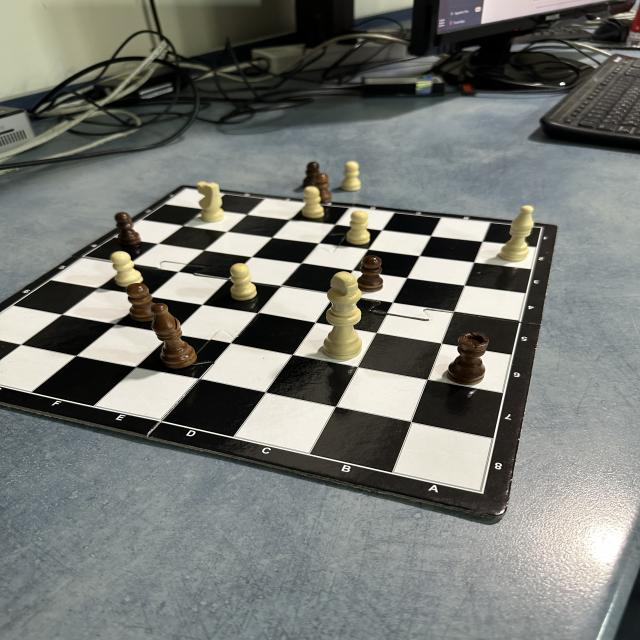Black-Bishop: (149, 302, 198, 370)
Black-Pawn: (126, 283, 154, 322), (359, 255, 385, 292), (115, 212, 142, 246), (316, 173, 334, 203), (302, 162, 319, 186)
Black-Rook: (446, 330, 491, 386)
White-Bishop: (498, 204, 535, 262)
White-King: (325, 270, 363, 361)
White-Knight: (197, 181, 226, 223)
White-Pawn: (110, 250, 144, 288), (230, 262, 258, 302), (345, 211, 372, 245), (303, 186, 327, 220), (341, 161, 362, 192)
